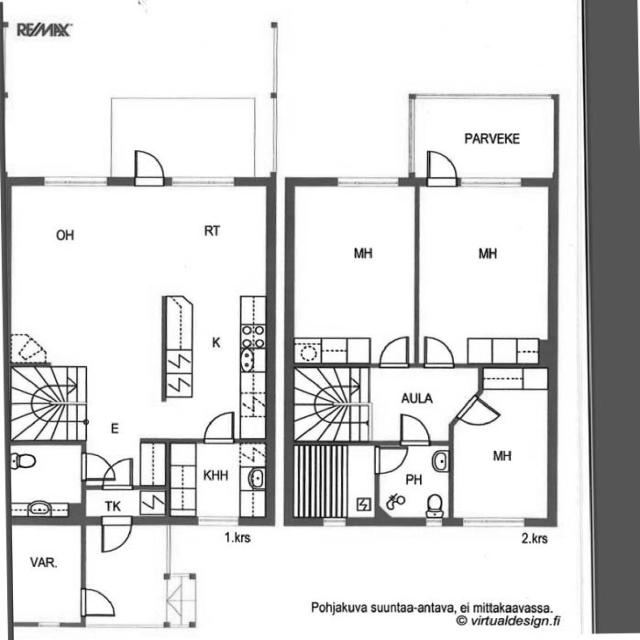door: (376, 444, 452, 522), (88, 484, 150, 536), (78, 450, 134, 488), (421, 146, 461, 190), (394, 410, 436, 449), (130, 146, 167, 190), (76, 584, 121, 620), (98, 514, 134, 557), (459, 394, 501, 430), (200, 408, 238, 445), (377, 332, 414, 370), (419, 333, 456, 371), (371, 444, 410, 478)
window: (456, 514, 533, 534), (37, 173, 113, 193), (333, 172, 405, 192), (167, 174, 240, 192), (459, 174, 528, 192), (192, 515, 245, 530), (315, 516, 353, 530), (33, 619, 65, 633), (421, 516, 446, 530)
zone: (416, 180, 553, 364), (7, 171, 149, 344), (287, 179, 418, 364), (160, 253, 269, 448), (452, 373, 553, 524), (156, 180, 271, 299), (167, 440, 270, 522), (10, 518, 86, 628), (287, 440, 375, 524), (377, 443, 452, 522), (8, 444, 84, 519), (80, 483, 168, 521)
